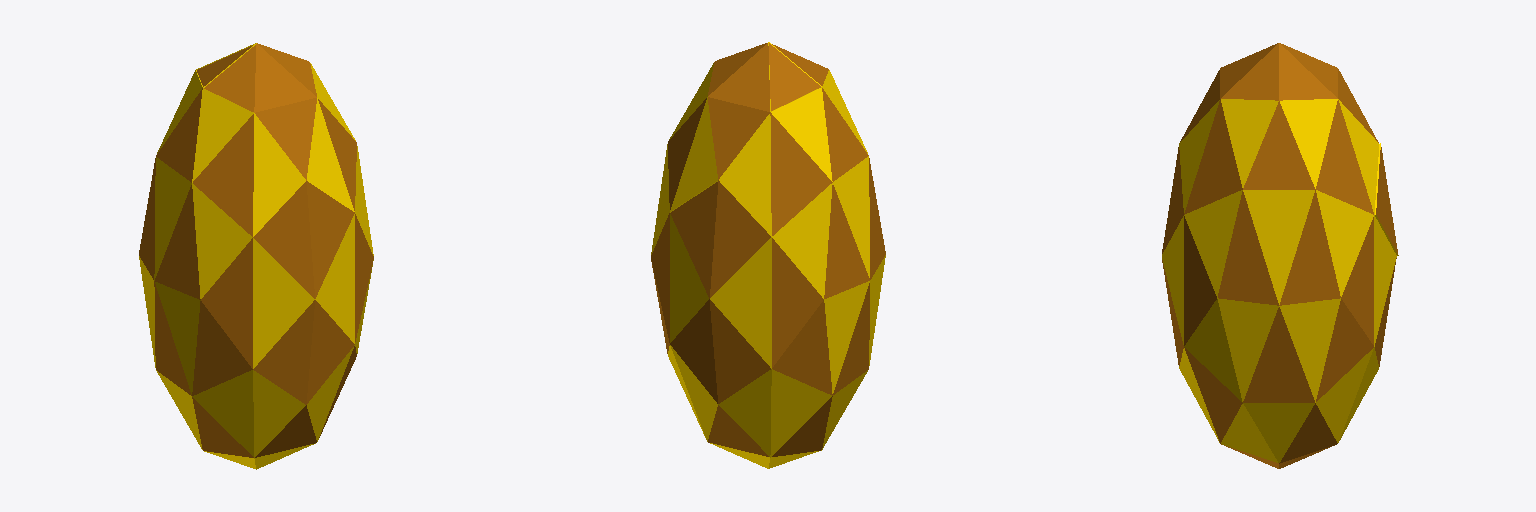
File: PolyHive.obj
The picture shows the model from 3 angles: view 1: azimuth 30°, elevation 25°; view 2: azimuth 150°, elevation 25°; view 3: azimuth 270°, elevation 25°; orthographic projection.
Visible parts, largest first — view 1: PolyHive; view 2: PolyHive; view 3: PolyHive.
Boxes of the visible parts, <box> form: PolyHive: <box>139,43,373,469</box>; PolyHive: <box>651,42,885,468</box>; PolyHive: <box>1162,43,1398,468</box>.
Bounding box in the file's own units: 1 × 2 × 1.01.